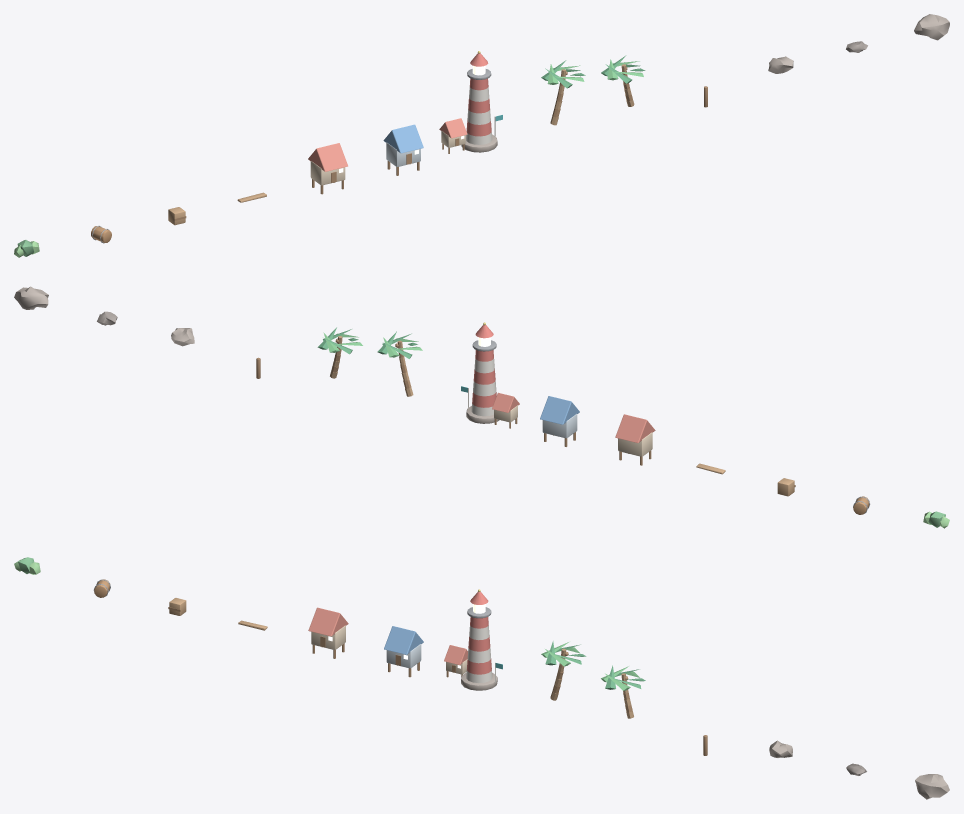
Rendered from szokoar-props.f1744670f2.glb.
3 views of the same model, one above another, from view 1: azimuth 30°, elevation 25°; view 2: azimuth 150°, elevation 25°; view 3: azimuth 330°, elevation 25° (orthographic).
Visible parts, largest first — view 1: lighthouse_mesh, hut_a_mesh, hut_b_mesh, palm_a_mesh, palm_b_mesh, rock_c_mesh; view 2: lighthouse_mesh, hut_b_mesh, hut_a_mesh, palm_a_mesh, palm_b_mesh, rock_c_mesh; view 3: lighthouse_mesh, hut_b_mesh, hut_a_mesh, palm_a_mesh, palm_b_mesh, rock_c_mesh.
Part boxes in pixels (x1,y1,x2,y2): lighthouse_mesh: (439,51,502,153); hut_a_mesh: (308,143,347,194); hut_b_mesh: (383,124,423,175); palm_a_mesh: (541,60,585,125); palm_b_mesh: (601,55,645,106); rock_c_mesh: (914,14,949,40); lighthouse_mesh: (461,322,519,428); hut_b_mesh: (540,396,579,446); hut_a_mesh: (615,414,655,465); palm_a_mesh: (377,331,422,396); palm_b_mesh: (317,327,362,378); rock_c_mesh: (14,286,48,309); lighthouse_mesh: (444,589,502,690); hut_b_mesh: (384,626,423,677); hut_a_mesh: (308,607,348,658); palm_a_mesh: (541,641,586,700); palm_b_mesh: (601,665,645,718); rock_c_mesh: (915,774,949,799).
Bounding box in the file's own units: 49.49 × 5.62 × 2.07.
